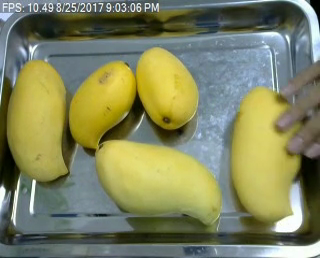Mango: (88, 133, 224, 227), (229, 87, 304, 223), (3, 57, 69, 181), (68, 54, 137, 145), (135, 45, 198, 130)
